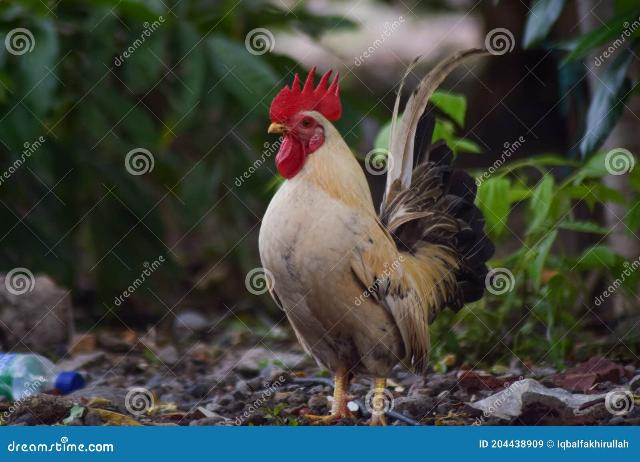Chicken: (255, 66, 498, 425)
